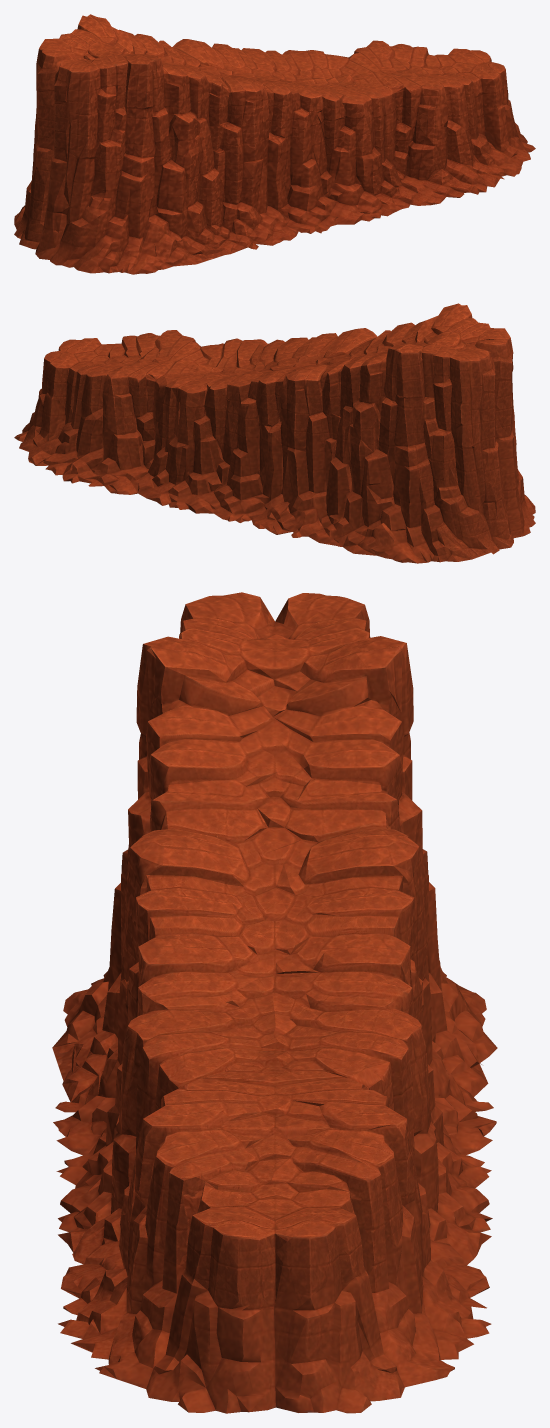
The model's file is desert_cliff_1.glb.
3 views of the same model, one above another, from view 1: azimuth 30°, elevation 25°; view 2: azimuth 150°, elevation 25°; view 3: azimuth 270°, elevation 25° (orthographic). The views are drawn at different scales.
Parts seen in each view (by area): view 1: output_unwrapped; view 2: output_unwrapped; view 3: output_unwrapped.
Boxes of the visible parts, x1=… form: output_unwrapped: x1=14, y1=14, x2=535, y2=274; output_unwrapped: x1=14, y1=303, x2=535, y2=563; output_unwrapped: x1=52, y1=592, x2=497, y2=1413.
Bounding box in the file's own units: 1.9 × 0.7164 × 0.754.
Materials: 1 (1 with a texture image).
